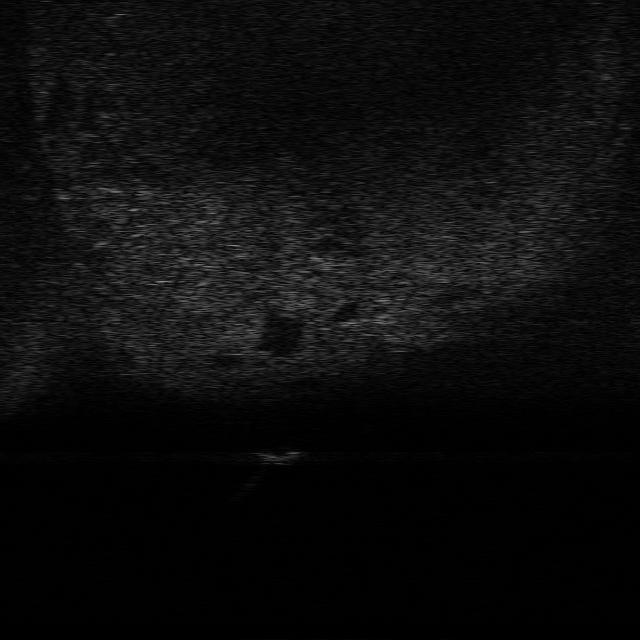cube: (250, 447, 306, 468)
